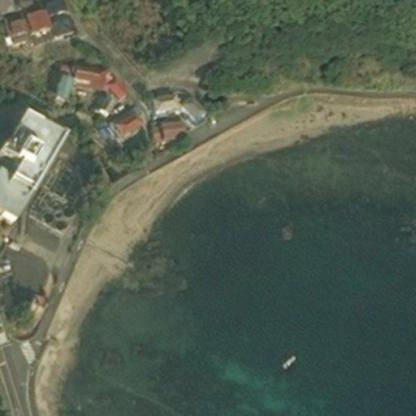ship: (280, 355, 294, 369)
